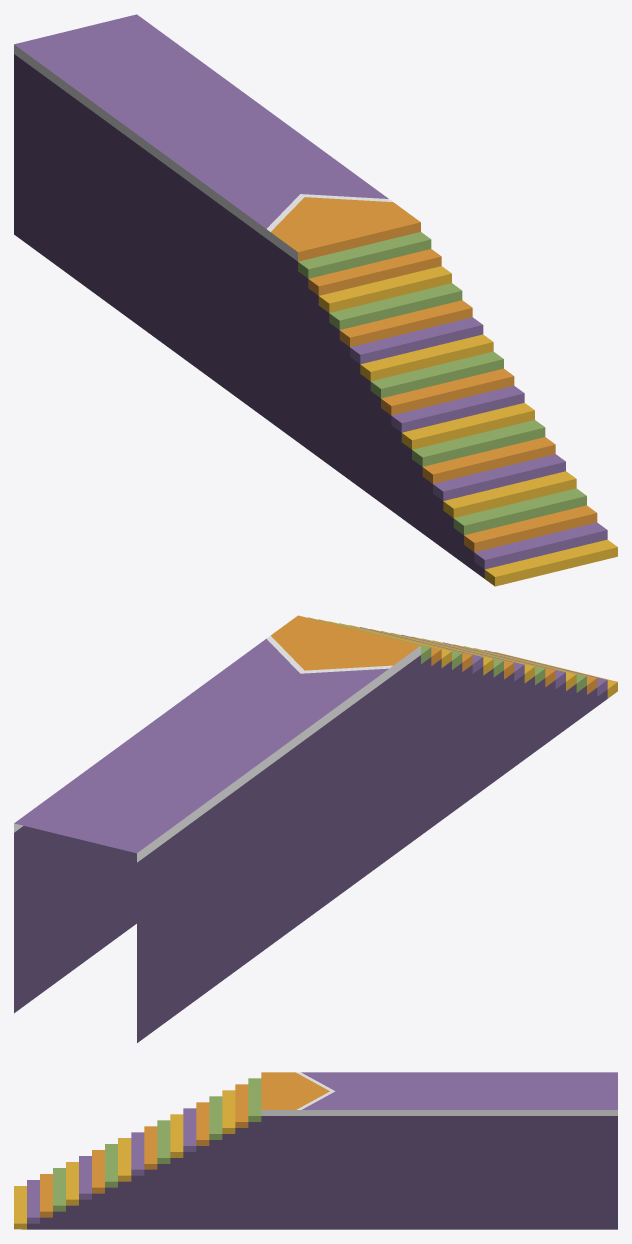
File: stairs-piece.fbx
The picture shows the model from 3 angles, top to bottom: view 1: azimuth 30°, elevation 25°; view 2: azimuth 150°, elevation 25°; view 3: azimuth 270°, elevation 25°; orthographic projection. The views are drawn at different scales.
Visible parts, largest first — view 1: stairs, stairs.020, stairs.010, stairs.002, stairs.005, stairs.007, stairs.008, stairs.012, stairs.013, stairs.014, stairs.017, stairs.019 (+9 smaller); view 2: stairs, stairs.020; view 3: stairs, stairs.020, stairs.009, stairs.010, stairs.011, stairs.012, stairs.013, stairs.014, stairs.016, stairs.017, stairs.018, stairs.019 (+9 smaller).
Boxes of the visible parts, x1,y1,x2,y2 form: stairs: [14, 54, 484, 578]; stairs.020: [14, 14, 420, 261]; stairs.010: [391, 385, 524, 432]; stairs.002: [474, 522, 607, 569]; stairs.005: [443, 471, 576, 517]; stairs.007: [422, 437, 555, 483]; stairs.008: [412, 420, 545, 466]; stairs.012: [370, 351, 503, 398]; stairs.013: [360, 334, 493, 381]; stairs.014: [350, 317, 483, 364]; stairs.017: [318, 266, 451, 312]; stairs.019: [298, 232, 431, 278]; stairs: [14, 655, 607, 1042]; stairs.020: [14, 615, 420, 862]; stairs: [27, 1116, 617, 1229]; stairs.020: [261, 1072, 617, 1115]; stairs.009: [118, 1138, 131, 1181]; stairs.010: [131, 1132, 144, 1175]; stairs.011: [144, 1126, 157, 1169]; stairs.012: [157, 1120, 170, 1163]; stairs.013: [170, 1114, 183, 1157]; stairs.014: [183, 1108, 196, 1151]; stairs.016: [209, 1096, 222, 1139]; stairs.017: [222, 1090, 235, 1133]; stairs.018: [235, 1084, 248, 1127]; stairs.019: [248, 1078, 261, 1121].
Size of the model in its own units: 2 by 2.96 by 13.56.
